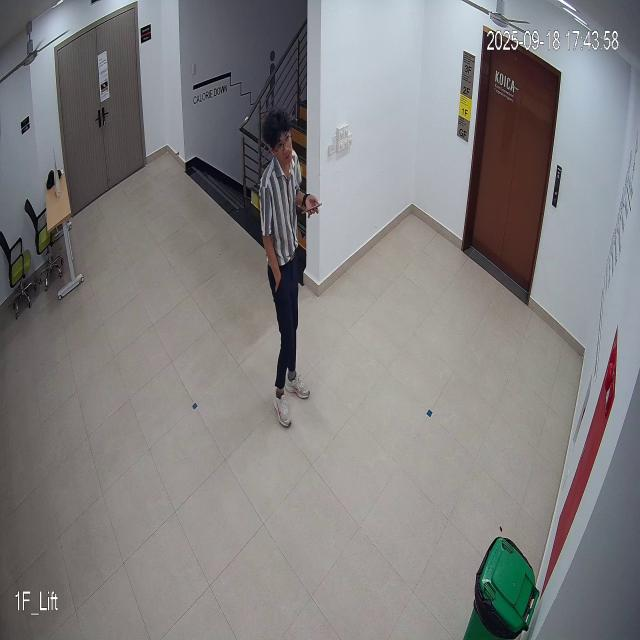face: (264, 110, 296, 170)
